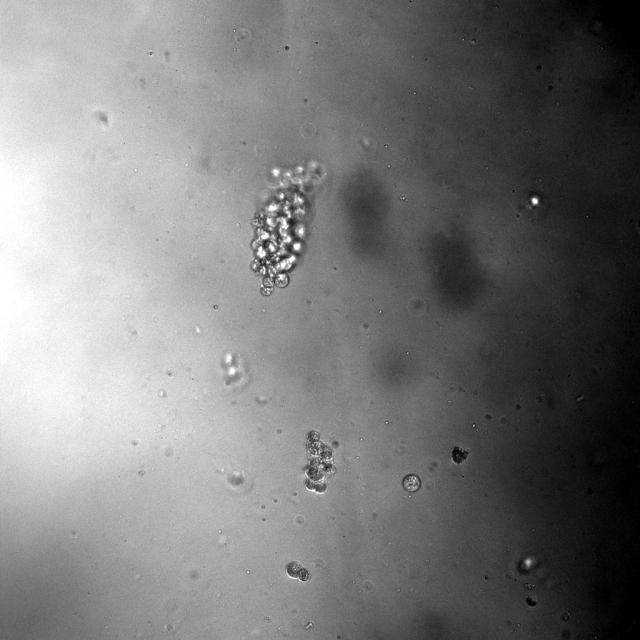organoid: (251, 162, 321, 296), (303, 430, 335, 493), (219, 351, 248, 389), (286, 561, 309, 582), (518, 555, 538, 574), (402, 474, 421, 492), (451, 445, 469, 464), (228, 472, 244, 487), (559, 611, 571, 623), (525, 596, 538, 607), (524, 583, 535, 590), (504, 572, 512, 580), (484, 575, 489, 581), (513, 577, 518, 583)
